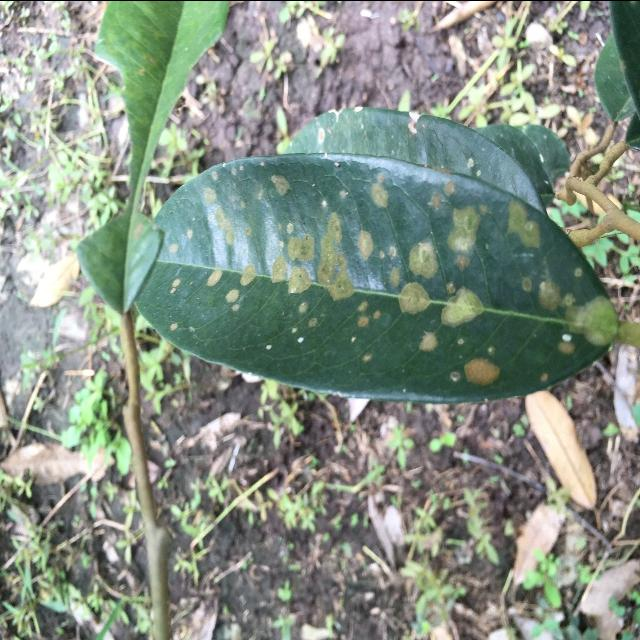Algal Leaf Spot: (117, 147, 628, 417)
